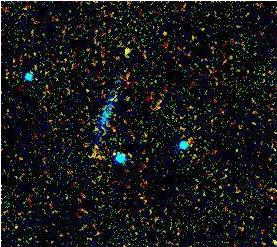star: (98, 138, 128, 168)
